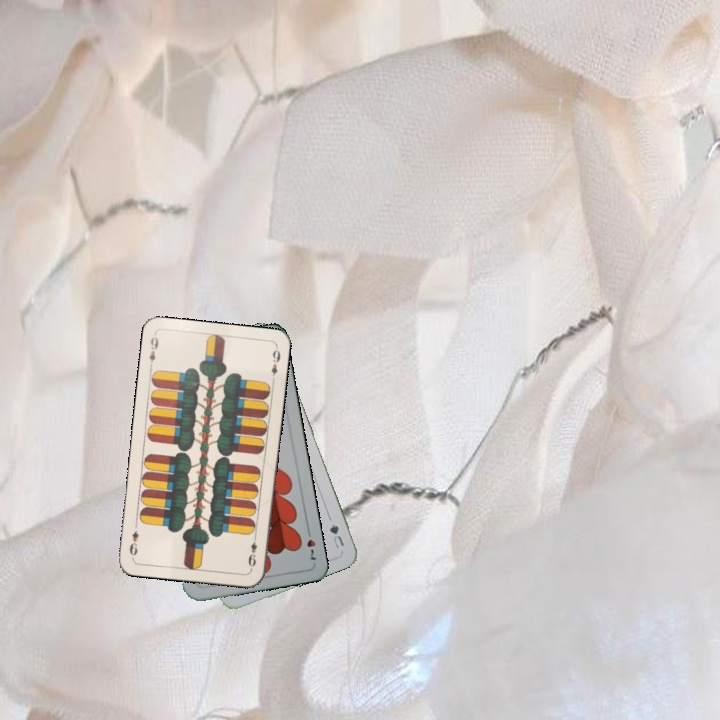E9: (145, 331, 161, 371), (244, 531, 259, 572)
GU: (326, 519, 347, 551)
H7: (303, 524, 319, 563)
